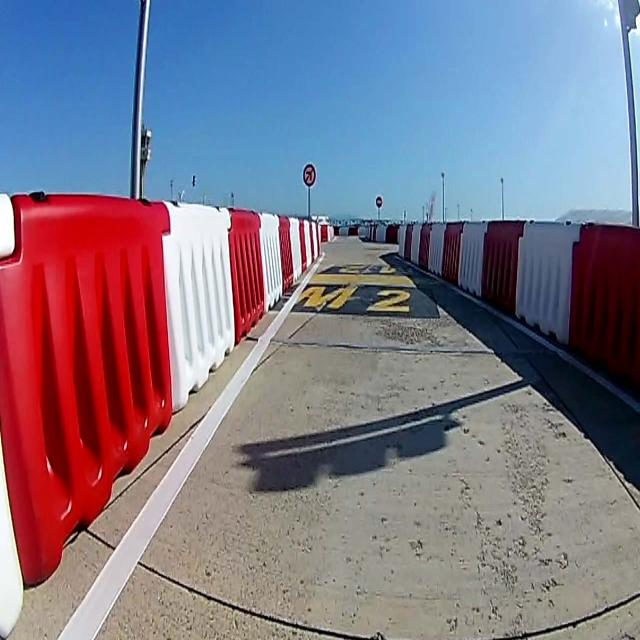girisyok: (376, 196, 382, 208)
soladonulmez: (302, 164, 316, 187)
